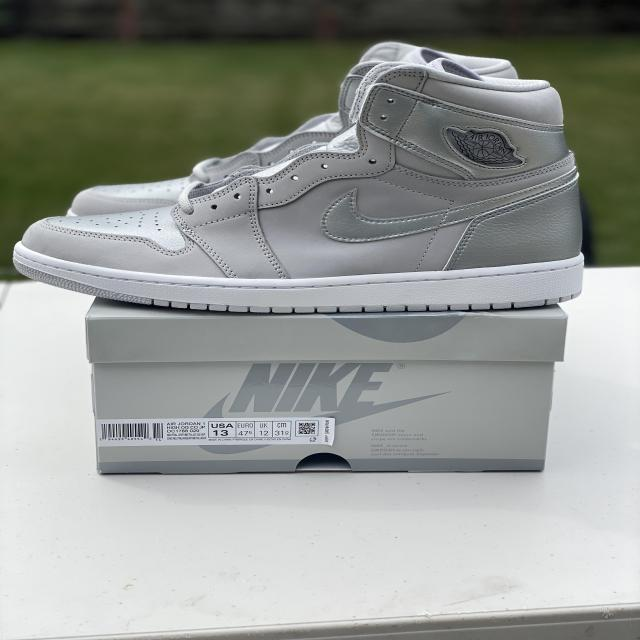shoe: (11, 40, 618, 330)
